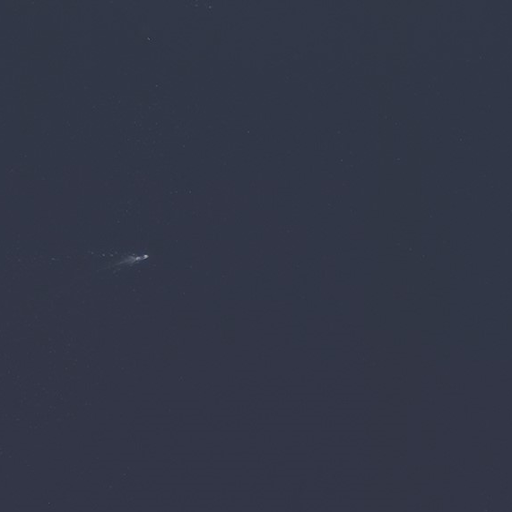ship: (131, 252, 151, 263)
